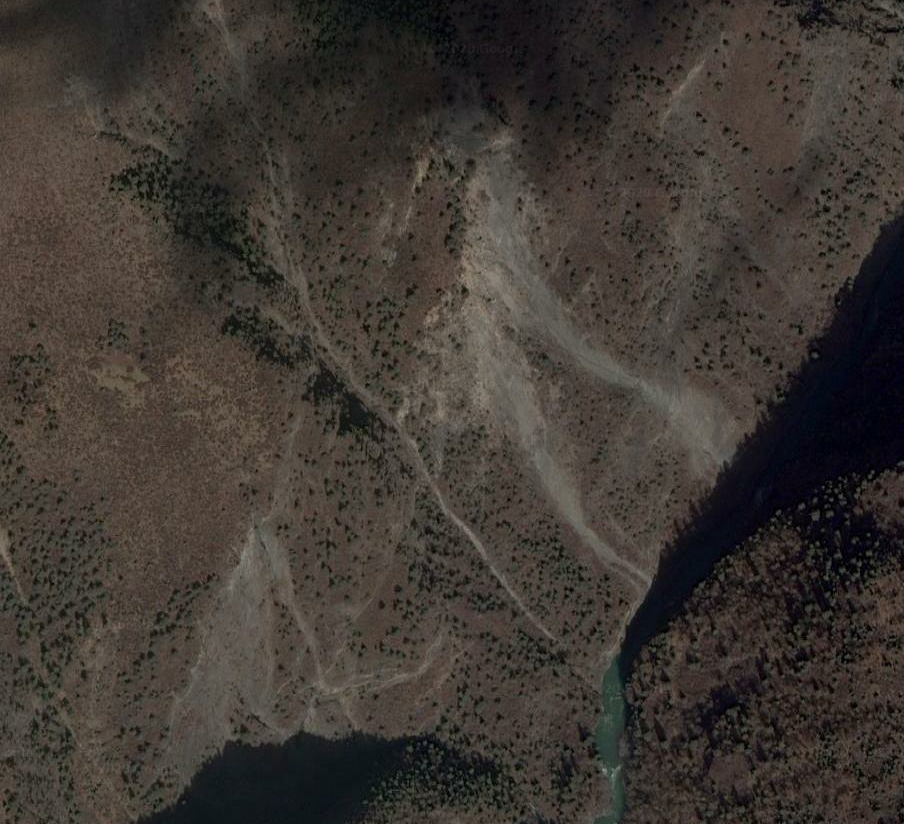slope: (406, 133, 740, 581), (151, 512, 338, 806)
